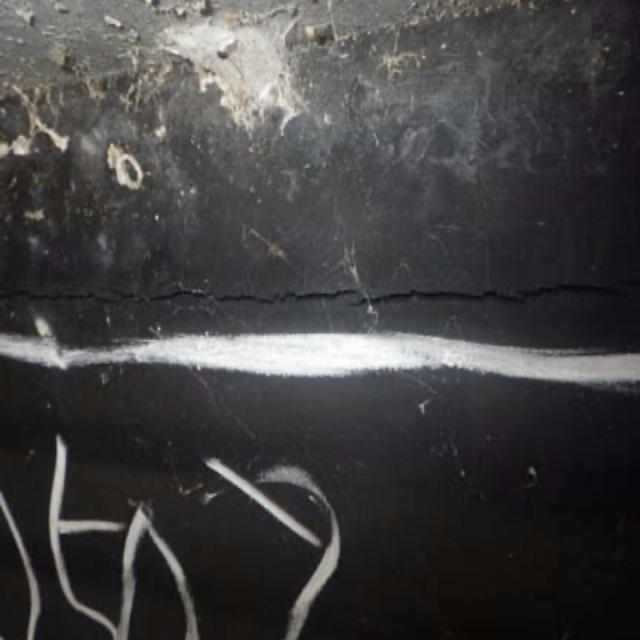crack: (8, 269, 633, 327)
